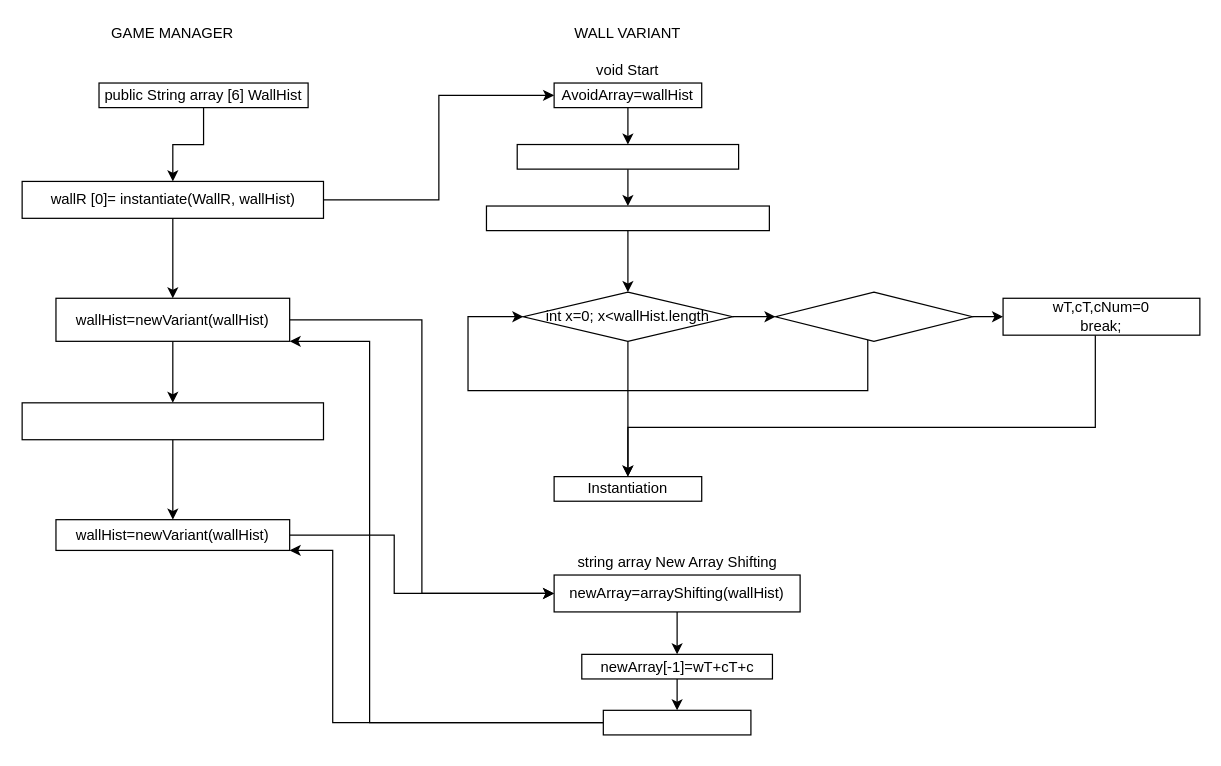
Image size: 1221x766. Some labels were removed from this diagram. The shapes that lost their labels are listed below. From the top down, each one's centre as x and y in pixels, then its label:
At point (627, 156): "public Int wTNum, cTNum, cNum".
At point (627, 218): "String currWall= wTNum + cTNum +cNum".
At point (873, 316): "wallHist[x]==currWall".
At point (172, 421): "wallL [0]= instantiate(WallL, wallHist)".
At point (676, 722): "return newArray".
